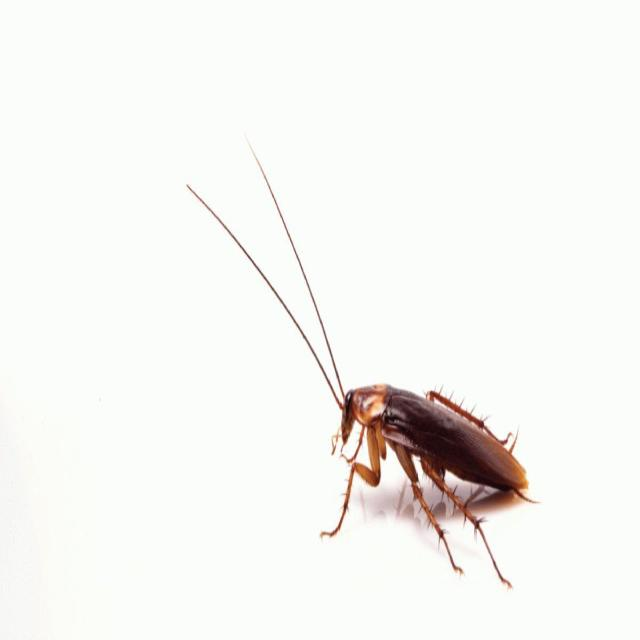Cockroach: (308, 340, 554, 577)
